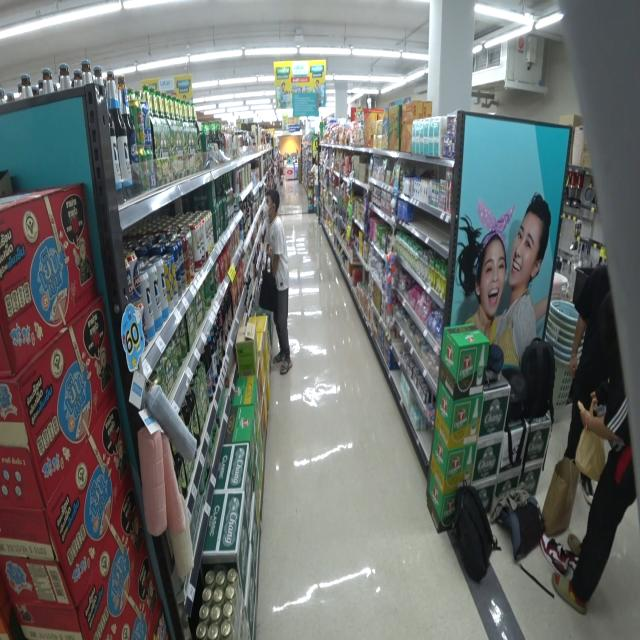shoplifting: (257, 190, 294, 372)
